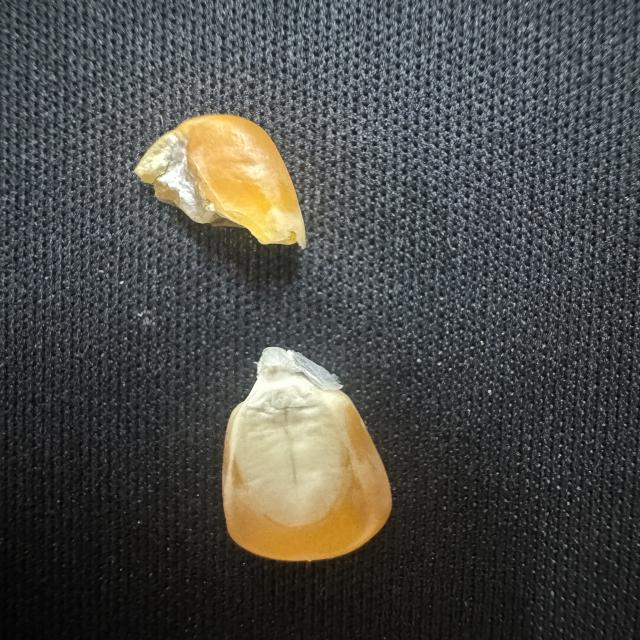Bad-Seed: (119, 107, 319, 263)
Good-Seed: (200, 319, 412, 569)
